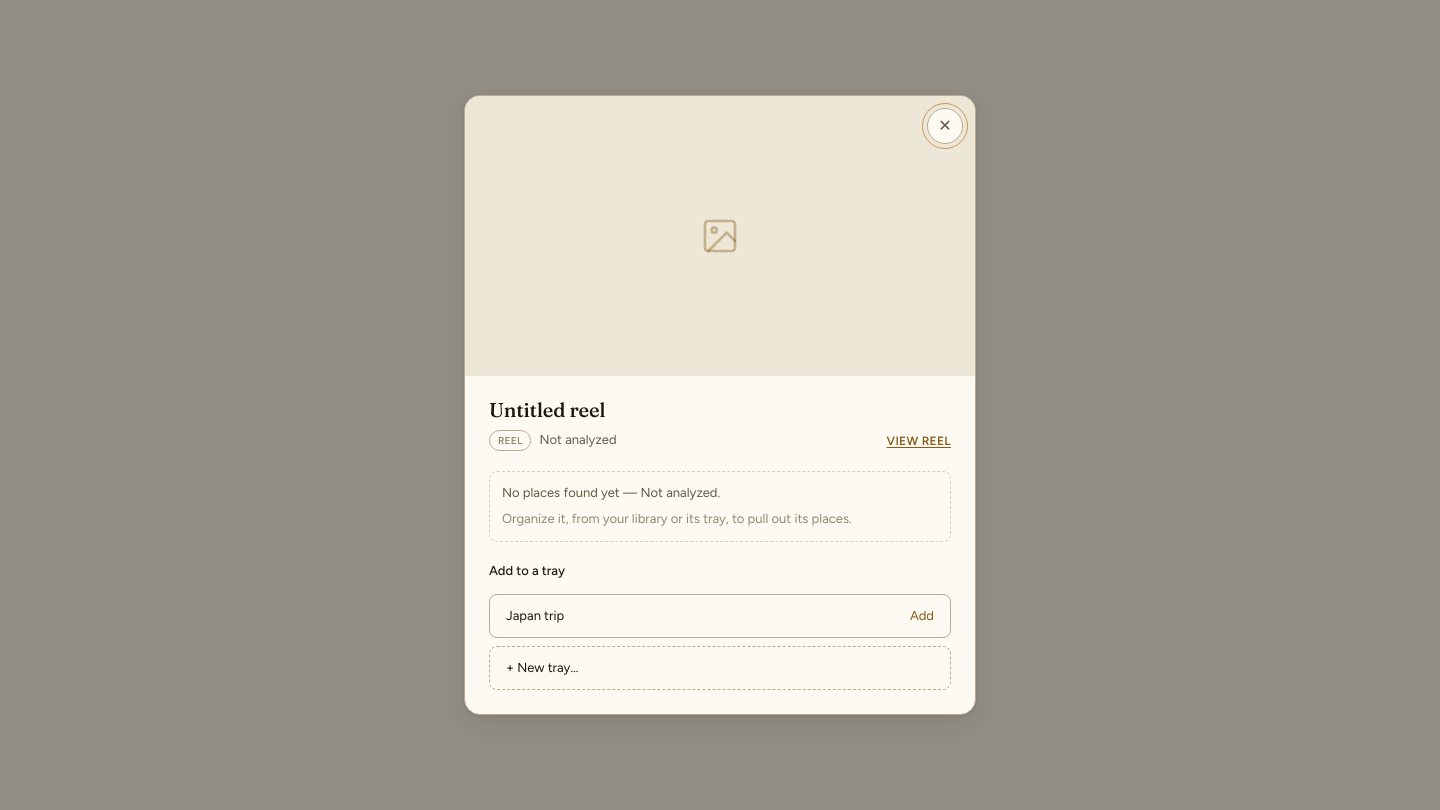
Scenario: ReelInfoCard › optimistically flips the row to Added on success even though traysWithReel never changes (C1)
Click the button "Japan trip Add" at (535, 616), box [489, 594, 951, 638]
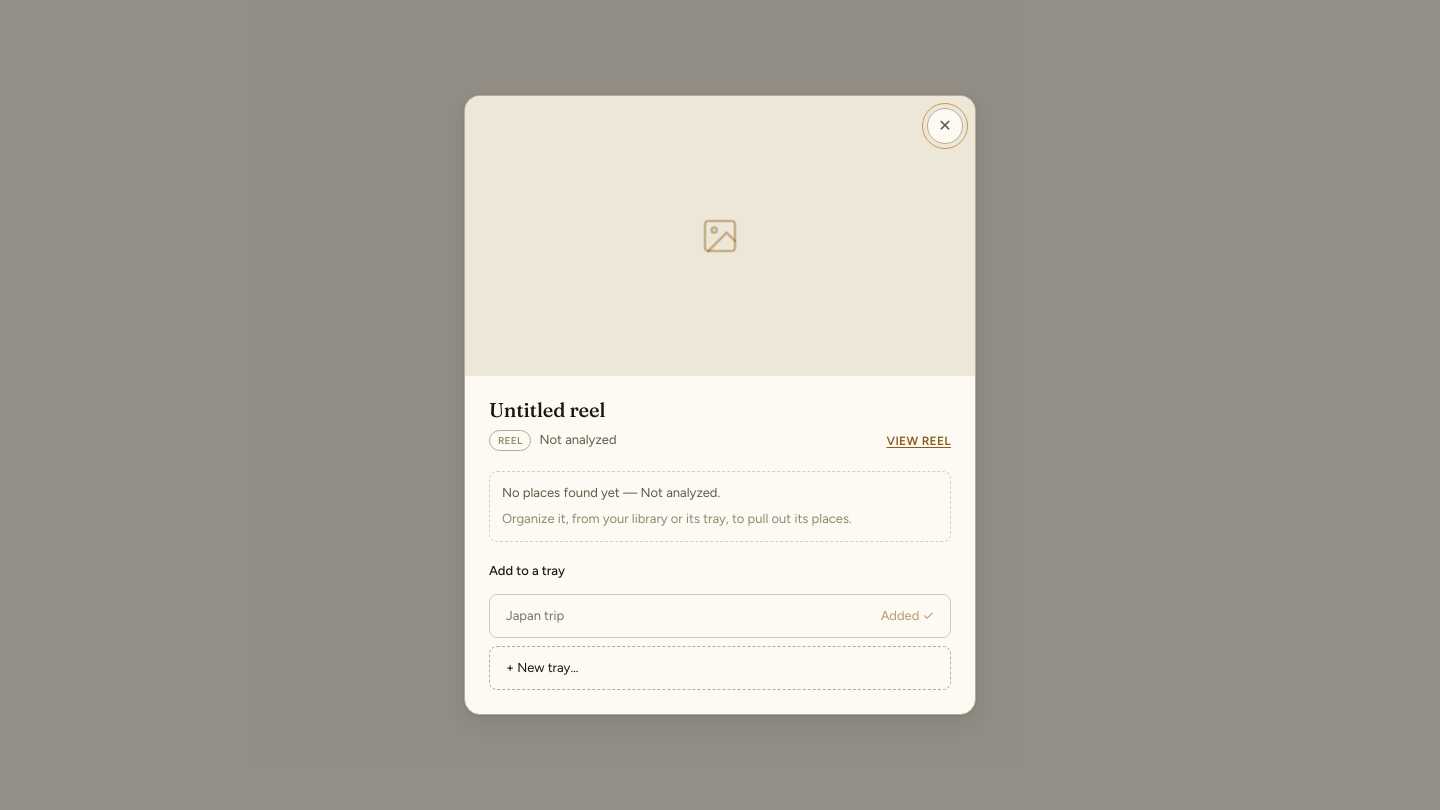
expect the button "Japan trip Added ✓" is shown: met, box [489, 594, 951, 638]
expect the button "Japan trip Added ✓" is disabled: met, box [489, 594, 951, 638]
